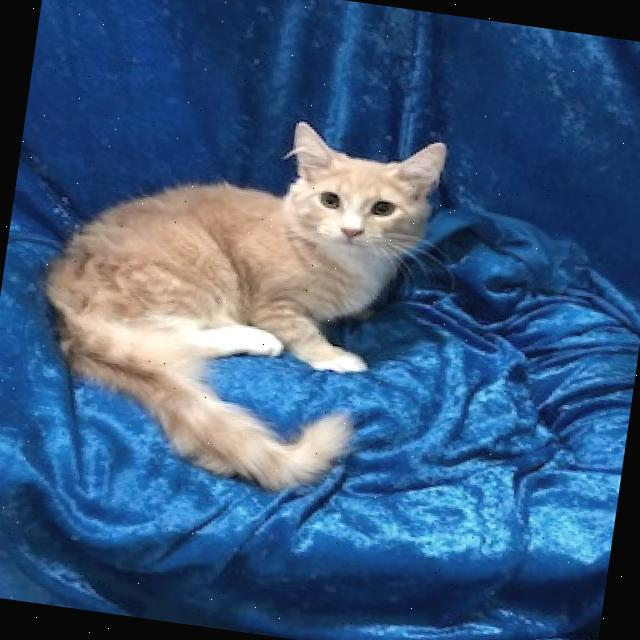maine_coon_cat: (222, 90, 476, 304)
